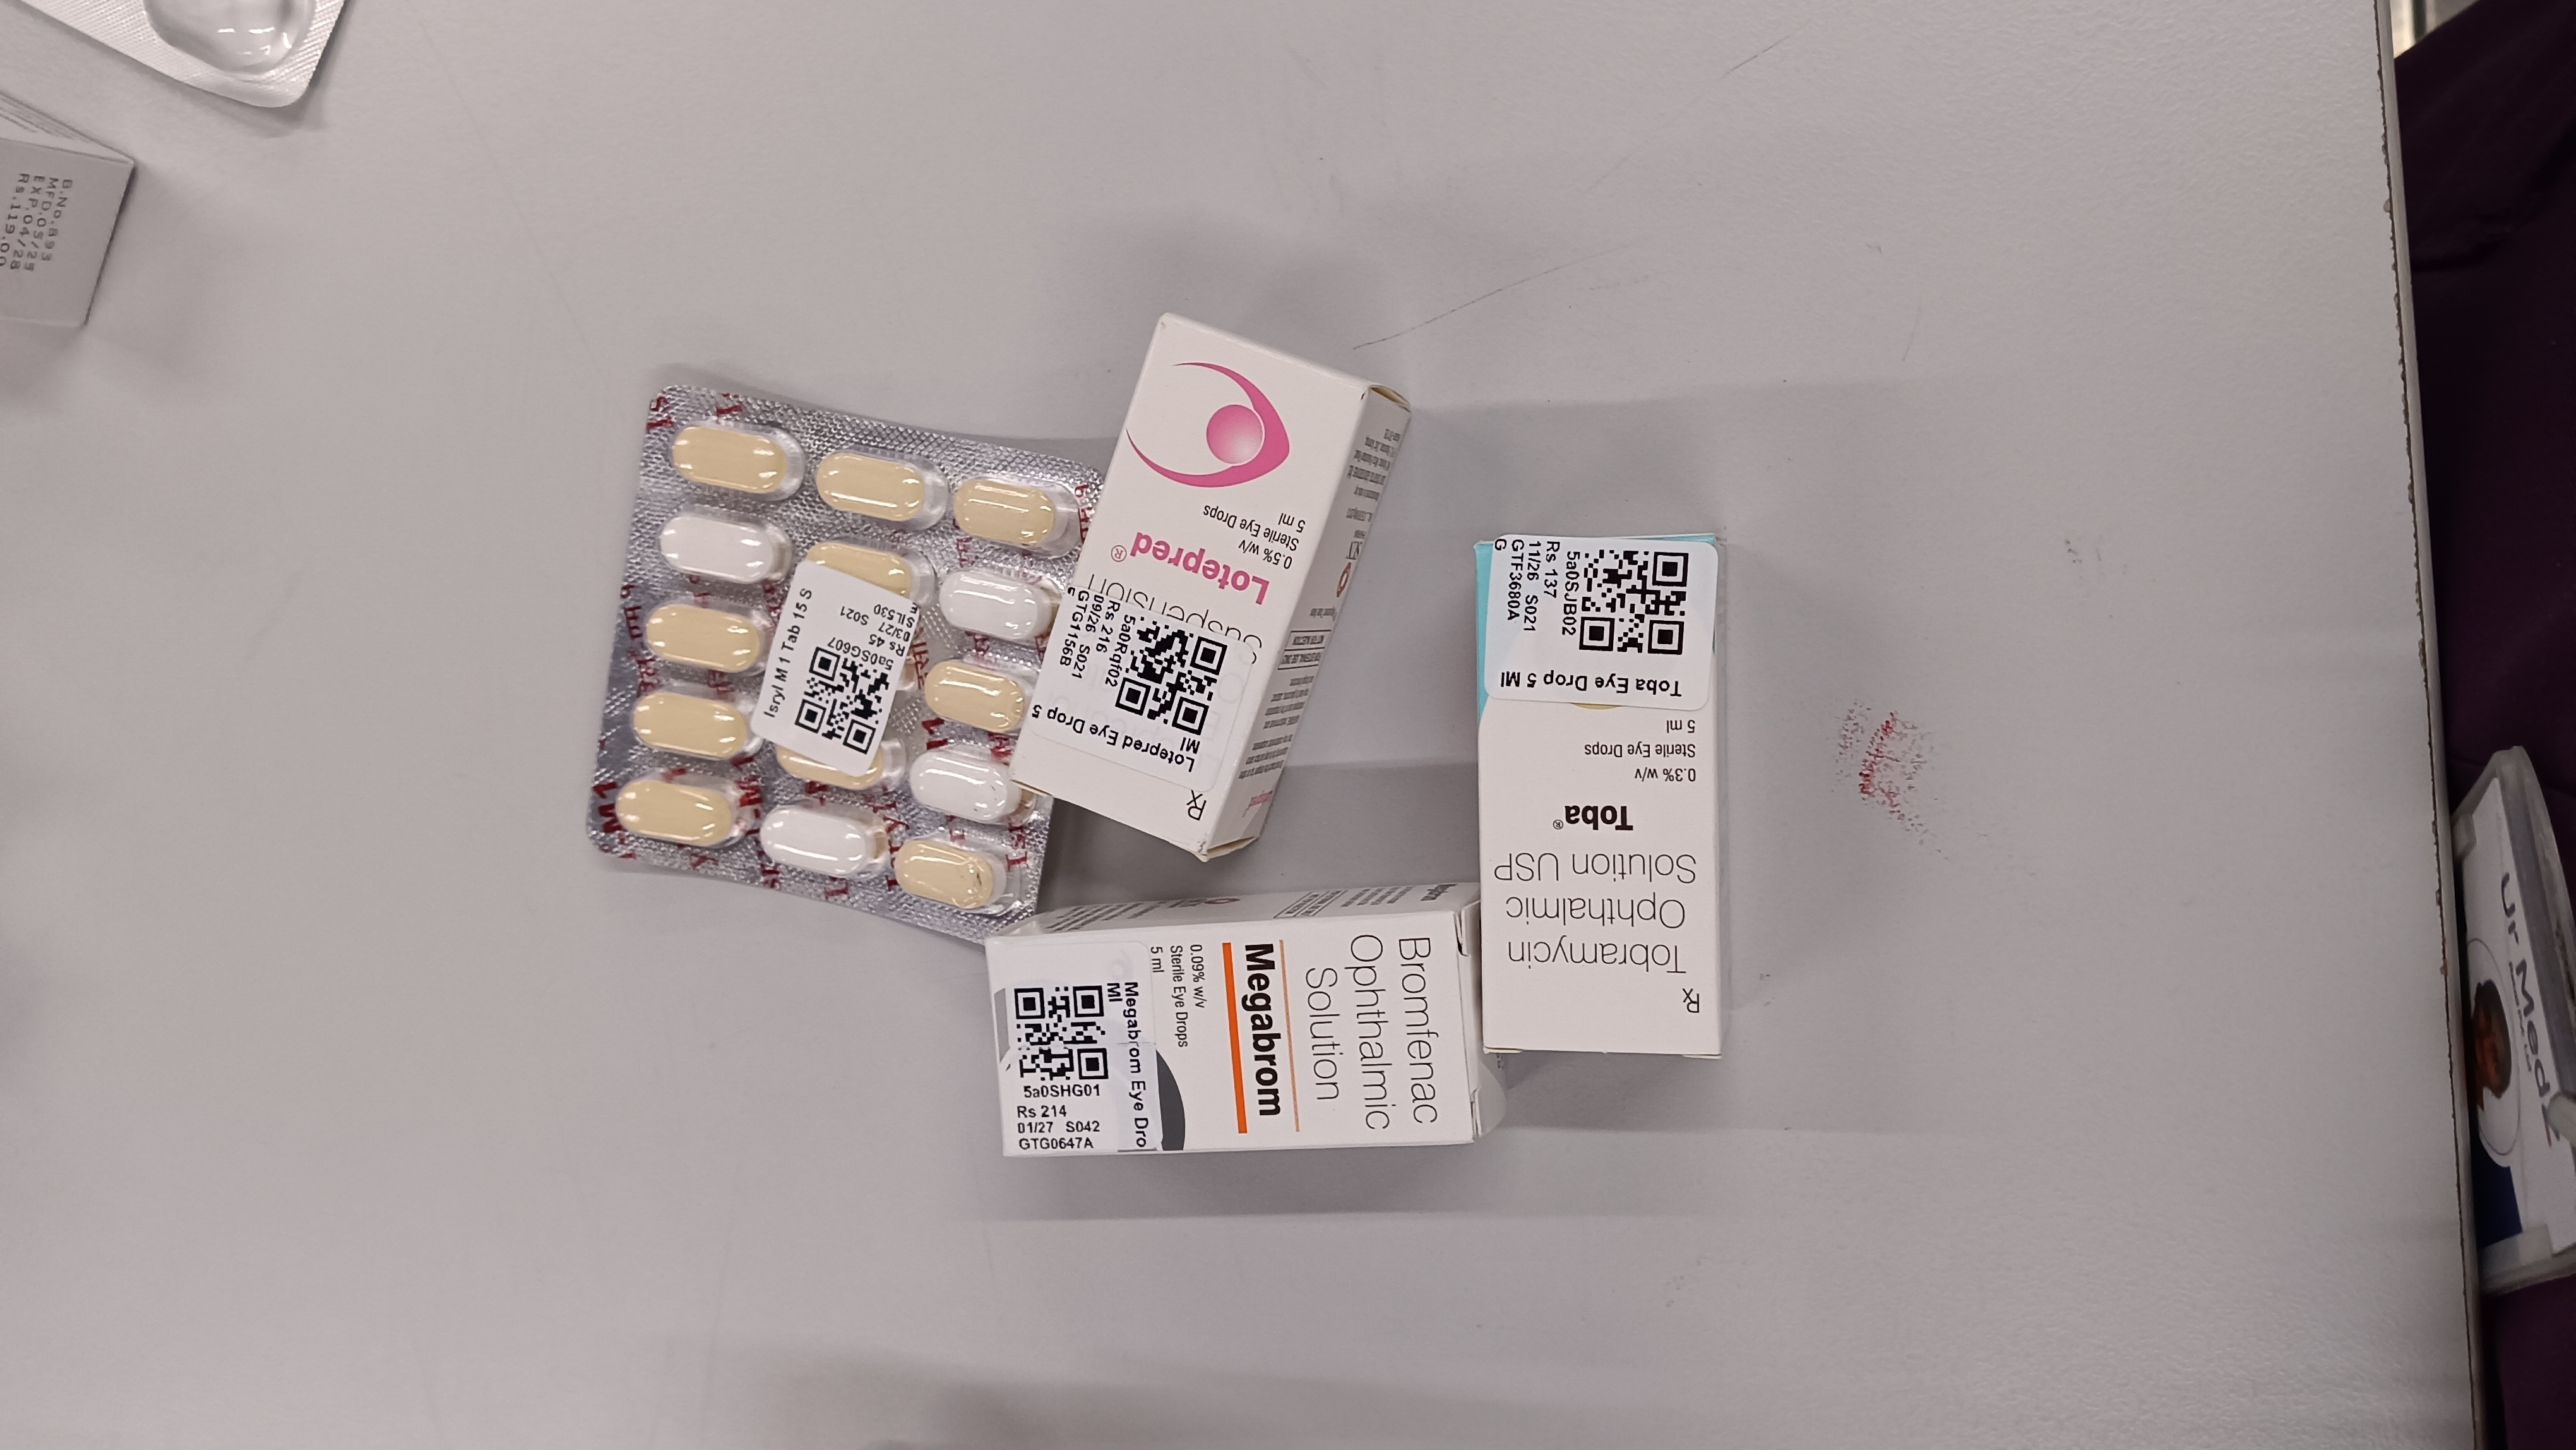QR: (1115, 556, 1226, 675), (794, 591, 895, 699)
